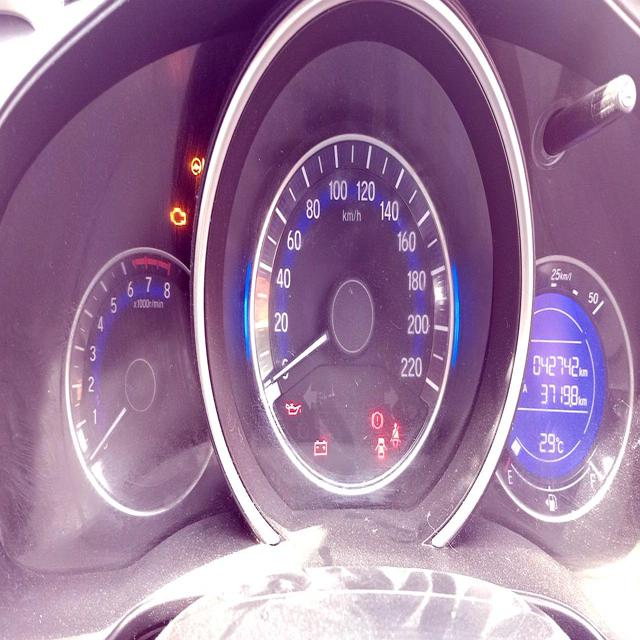odometer: (531, 348, 578, 379)
